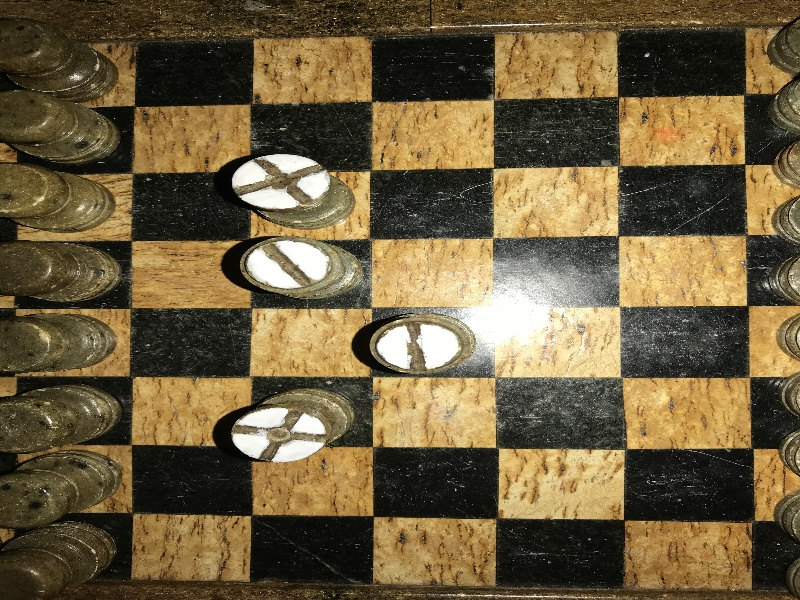WhiteBishop: (231, 153, 354, 229), (231, 387, 354, 463)
WhiteRook: (239, 237, 362, 299), (370, 314, 474, 373)
